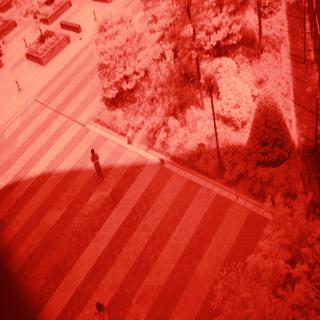person: (86, 144, 110, 187)
